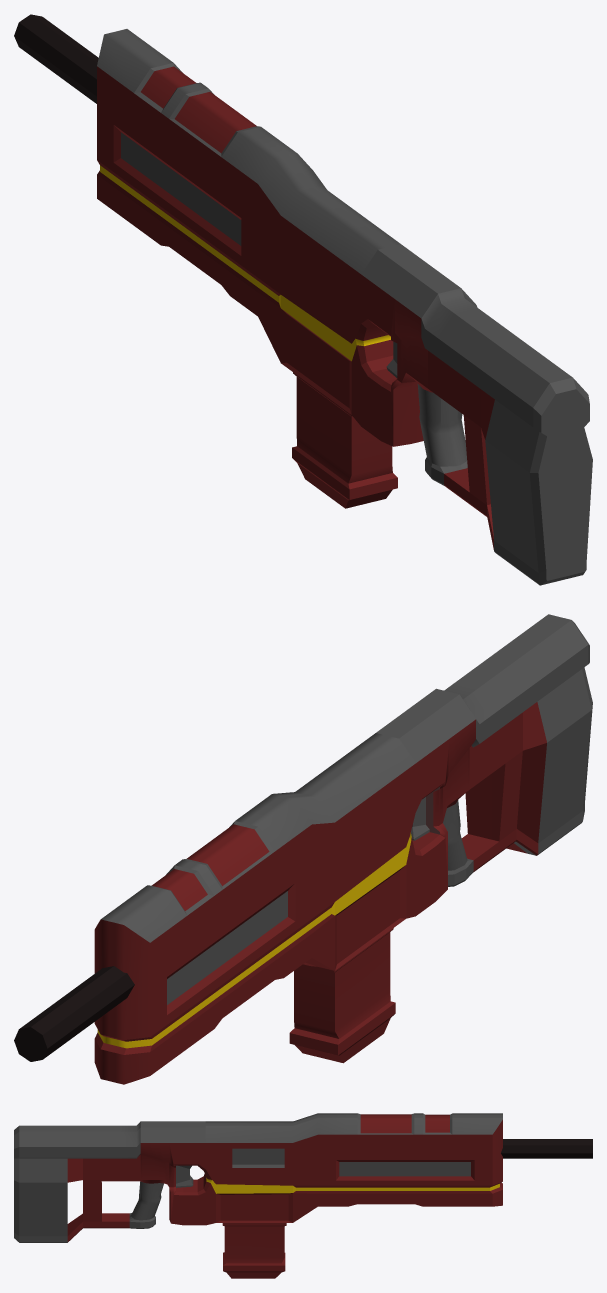
3 renders of one model, top to bottom at view 1: azimuth 30°, elevation 25°; view 2: azimuth 150°, elevation 25°; view 3: azimuth 270°, elevation 25°, orthographic. The views are drawn at different scales.
Parts seen in each view (by area): view 1: pCylinder32; view 2: pCylinder32; view 3: pCylinder32.
Part boxes in pixels (x1=…): pCylinder32: x1=14, y1=14, x2=592, y2=585; pCylinder32: x1=14, y1=614, x2=592, y2=1084; pCylinder32: x1=14, y1=1113, x2=592, y2=1278.
Size of the model in its own units: 0.5735 by 2.55 by 8.54.
